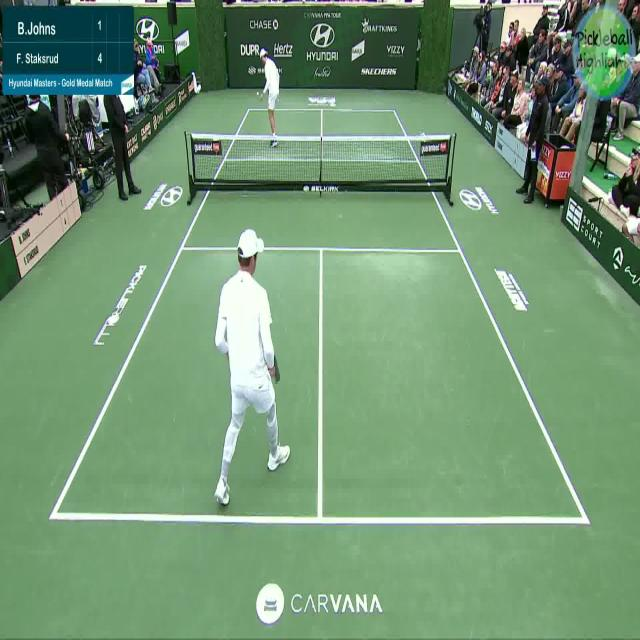ball: (255, 88, 260, 95)
